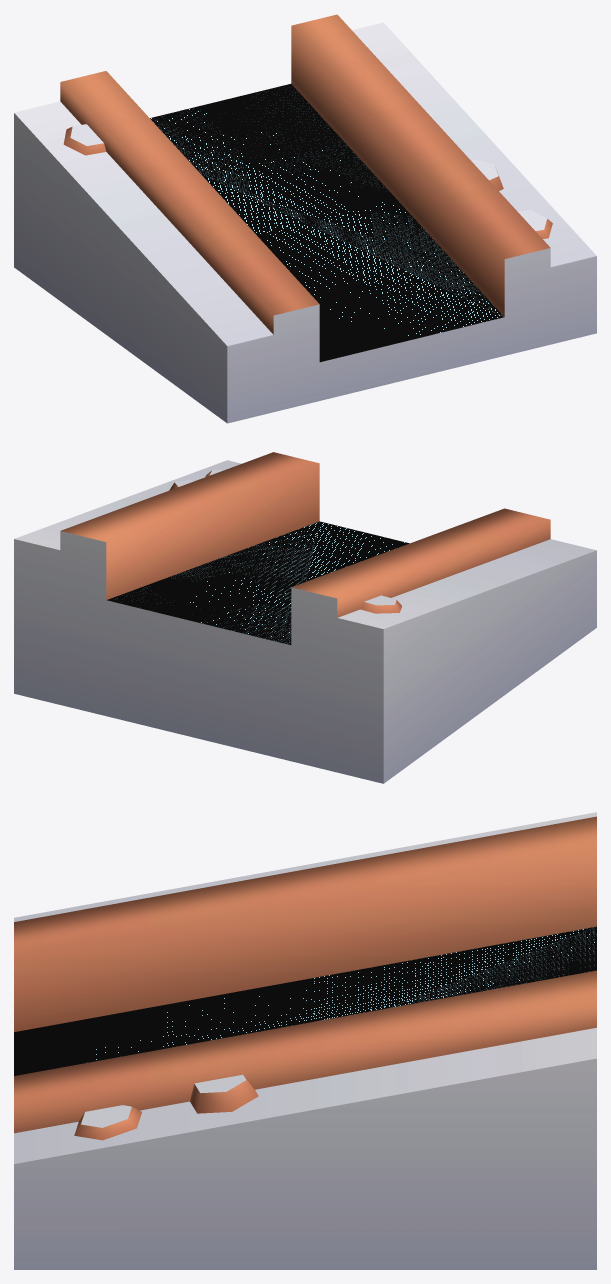
The model's file is kenney-tower-defense-snow-tile-river-slope.glb.
3 renders of one model, top to bottom at view 1: azimuth 30°, elevation 25°; view 2: azimuth 150°, elevation 25°; view 3: azimuth 270°, elevation 25°, orthographic. The views are drawn at different scales.
Visible parts, largest first — view 1: snow-tile-river-slope; view 2: snow-tile-river-slope; view 3: snow-tile-river-slope.
Part boxes in pixels (bbox=[...]): snow-tile-river-slope: bbox=[14, 14, 596, 423]; snow-tile-river-slope: bbox=[14, 452, 596, 783]; snow-tile-river-slope: bbox=[14, 812, 596, 1269].
Size of the model in its own units: 1 by 0.45 by 1.
Materials: 1 (1 with a texture image).
